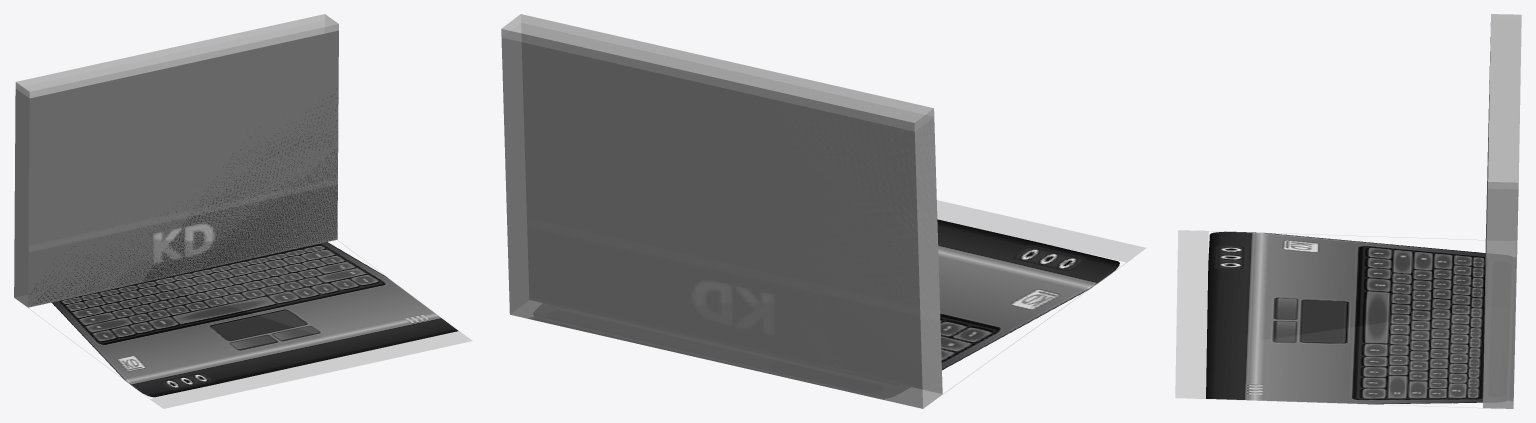
The model's file is Marvin_Clarke_Laptop.fbx.
The picture shows the model from 3 angles, left to right: view 1: azimuth 30°, elevation 25°; view 2: azimuth 150°, elevation 25°; view 3: azimuth 270°, elevation 25°; orthographic projection. The views are drawn at different scales.
Parts seen in each view (by area): view 1: pCube3; view 2: pCube3; view 3: pCube3.
Part boxes in pixels (bbox=[...]): pCube3: bbox=[14, 14, 472, 408]; pCube3: bbox=[501, 14, 1145, 408]; pCube3: bbox=[1175, 14, 1521, 408].
Size of the model in its own units: 3.13 by 2.05 by 2.73.
